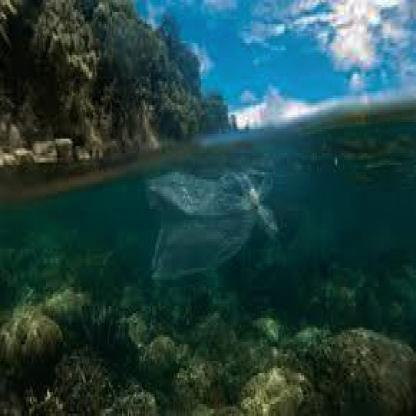pbag: (145, 165, 282, 282)
